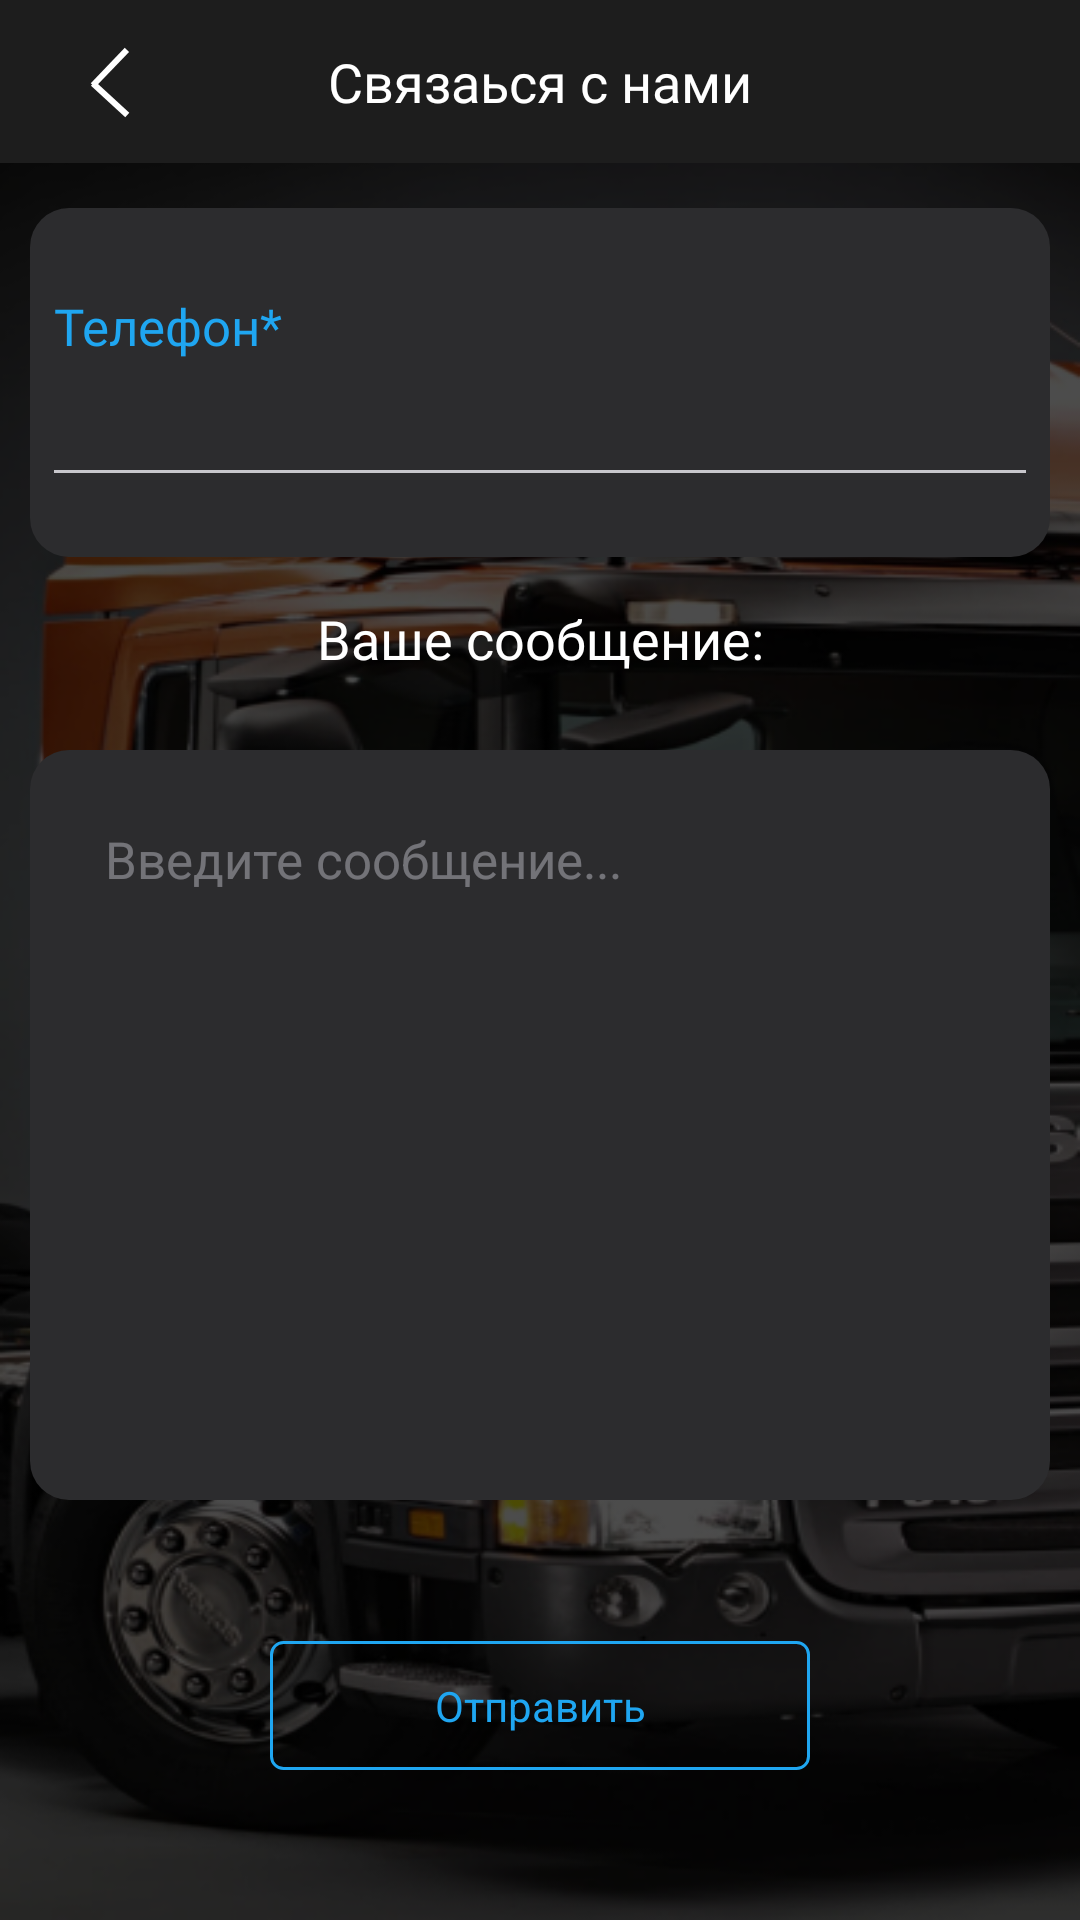

Locate icon controls on the screen. Image size 1080×1920, boxes as (x1, y1, x2, y2).
back: (91, 48, 129, 117)
